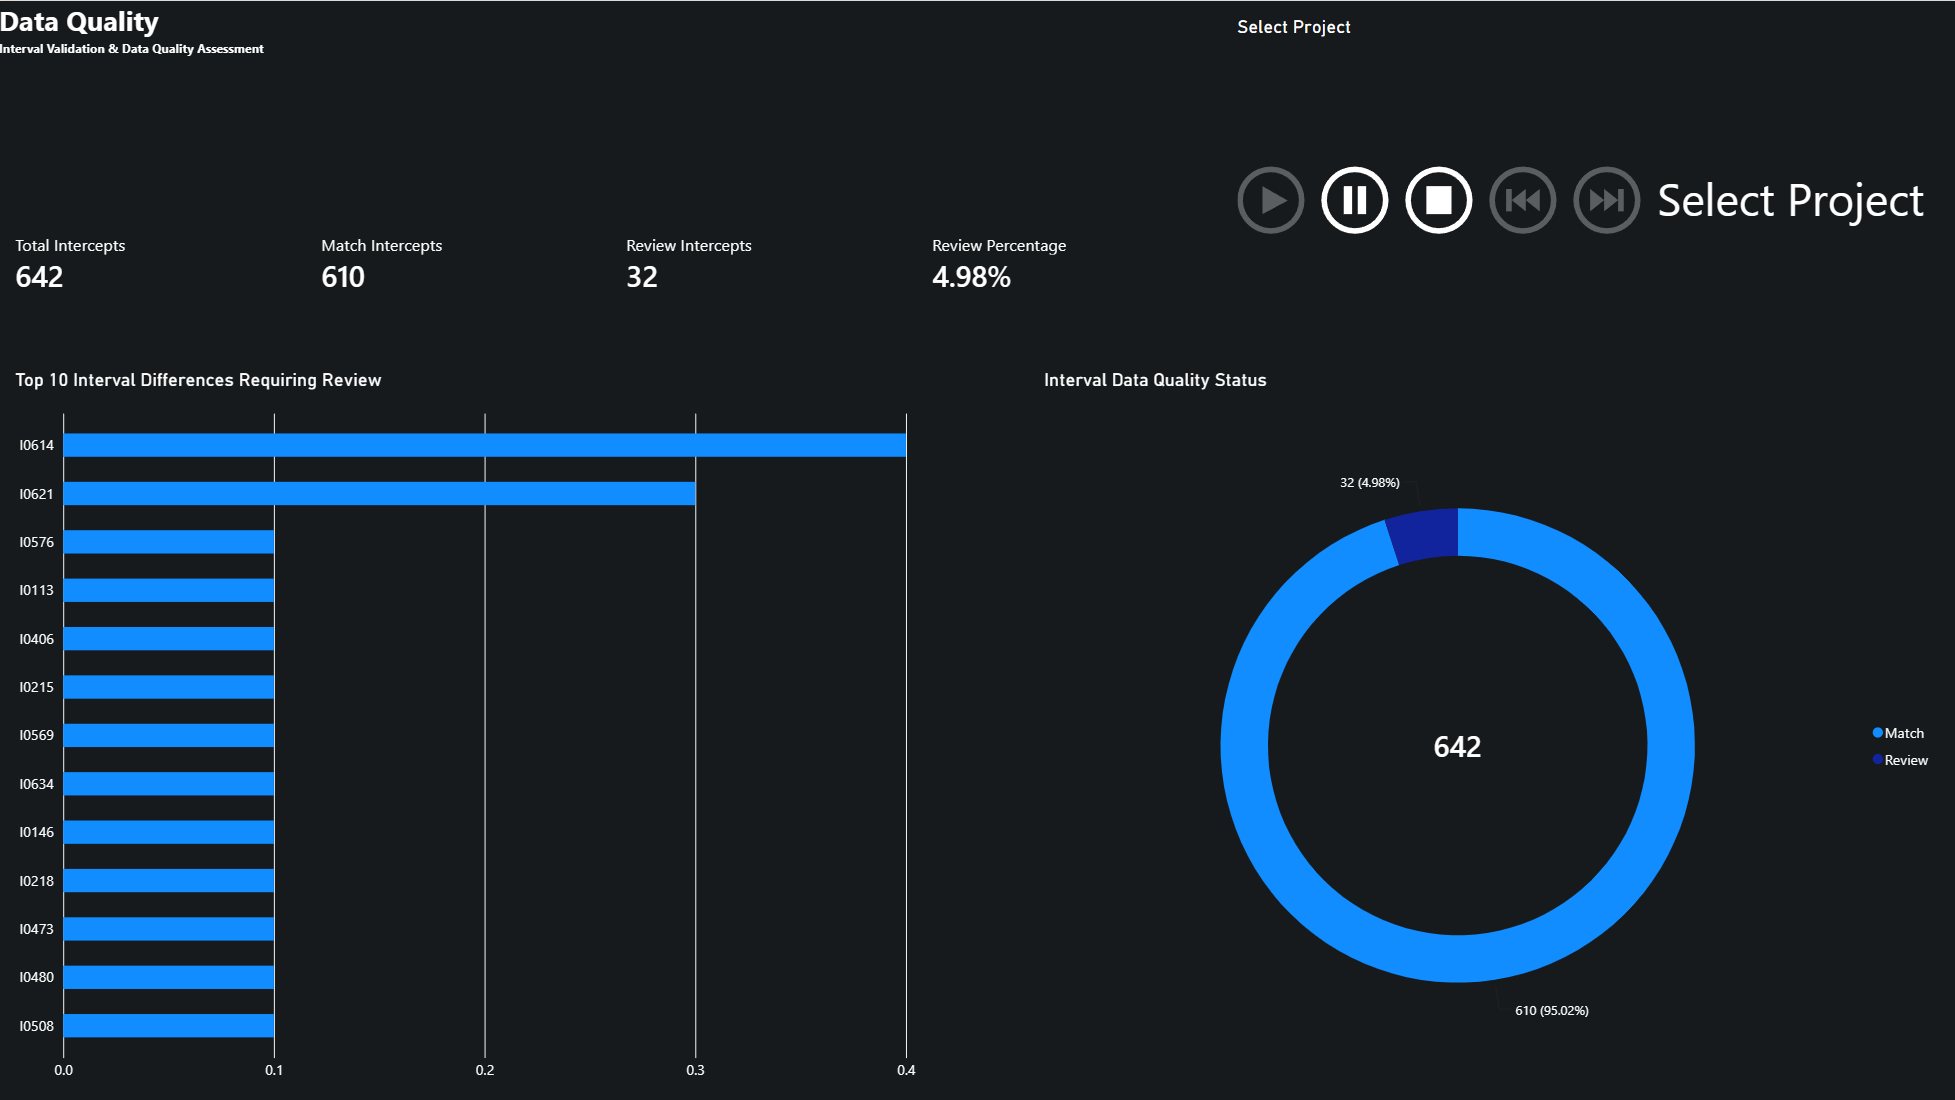

What the dashboard file says about the page in this screenshot:
{"tool":"powerbi","page":{"name":"Data Quality","canvas":[1920,1080],"ordinal":2},"visuals":[{"type":"cardVisual","fields":{"Data":["mining_geology_project intercepts.Review Intercepts"]},"box":[599.9,162.2,308.1,193.8],"z":0},{"type":"cardVisual","fields":{"Data":["mining_geology_project intercepts.Review Percentage"]},"box":[899.8,162.2,308.1,193.8],"z":1000},{"type":"donutChart","title":"Interval Data Quality Status","fields":{"Category":["mining_geology_project intercepts.Quality_Status"],"Y":["CountNonNull(mining_geology_project intercepts.Intercept_ID)"]},"box":[1010.4,346.8,909.6,733.6],"z":2000},{"type":"cardVisual","fields":{"Data":["mining_geology_project intercepts.Match Intercepts"]},"box":[299.9,162.2,307.1,193.8],"z":3000},{"type":"cardVisual","fields":{"Data":["Count(mining_geology_project intercepts.Intercept_ID)"]},"box":[0,162.2,308.1,193.8],"z":4000},{"type":"clusteredBarChart","title":"Top 10 Interval Differences Requiring Review","fields":{"Category":["mining_geology_project intercepts.Intercept_ID"],"Y":["Max(mining_geology_project intercepts.Interval_Difference)"]},"box":[0,346.8,1019.7,733.6],"z":5000},{"type":"PBI_CV_16948668_E17D_454B_8664_2F2C470EA8C1","fields":{"category":["mining_geology_project intercepts.Project_ID"]},"box":[1199.7,0,720.3,356],"z":6000},{"type":"textbox","box":[0,0,1199.7,171.4],"z":7000}]}

Visuals, with their boxes in screenshot pixels (x1, y1, x2, y2), scaled from the page's 1920x1080 canvas onto the 1955x1100 screenshot:
cardVisual - mining_geology_project intercepts.Review Intercepts: (left=611, top=165, right=925, bottom=363)
cardVisual - mining_geology_project intercepts.Review Percentage: (left=916, top=165, right=1230, bottom=363)
"Interval Data Quality Status" donutChart: (left=1029, top=353, right=1954, bottom=1099)
cardVisual - mining_geology_project intercepts.Match Intercepts: (left=305, top=165, right=618, bottom=363)
cardVisual - Count(mining_geology_project intercepts.Intercept_ID): (left=0, top=165, right=314, bottom=363)
"Top 10 Interval Differences Requiring Review" clusteredBarChart: (left=0, top=353, right=1038, bottom=1099)
PBI_CV_16948668_E17D_454B_8664_2F2C470EA8C1 - mining_geology_project intercepts.Project_ID: (left=1222, top=0, right=1954, bottom=363)
textbox: (left=0, top=0, right=1222, bottom=175)
